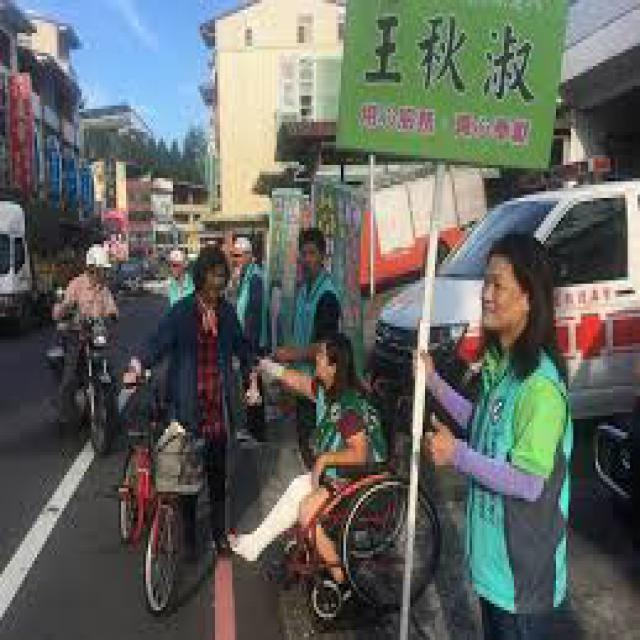wheelchairs: (280, 372, 450, 636)
